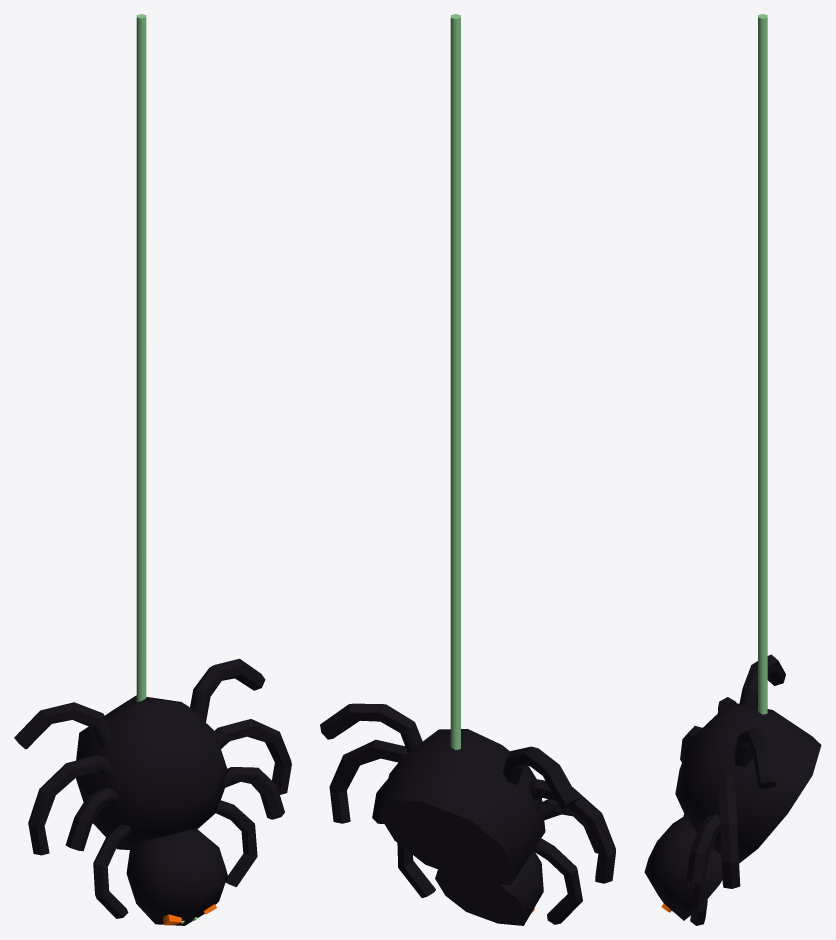
Rendered from Spider03.fbx.
The picture shows the model from 3 angles, left to right: view 1: azimuth 30°, elevation 25°; view 2: azimuth 150°, elevation 25°; view 3: azimuth 270°, elevation 25°; orthographic projection. The views are drawn at different scales.
Visible parts, largest first — view 1: Spider03; view 2: Spider03; view 3: Spider03.
Boxes of the visible parts, box(x1,y1,x2,y2) form: Spider03: box(14, 14, 291, 925); Spider03: box(320, 14, 615, 925); Spider03: box(644, 14, 821, 925).
Size of the model in its own units: 12.21 by 38.69 by 6.92.
